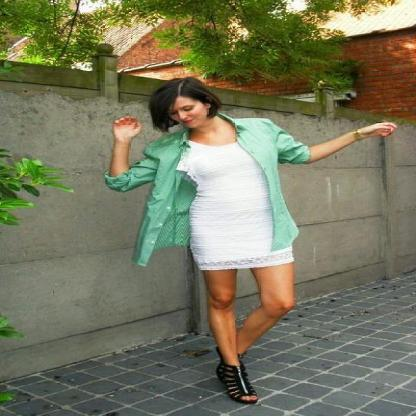dress: (177, 141, 293, 270)
jacket: (104, 114, 311, 266)
shoe: (216, 358, 257, 404)
